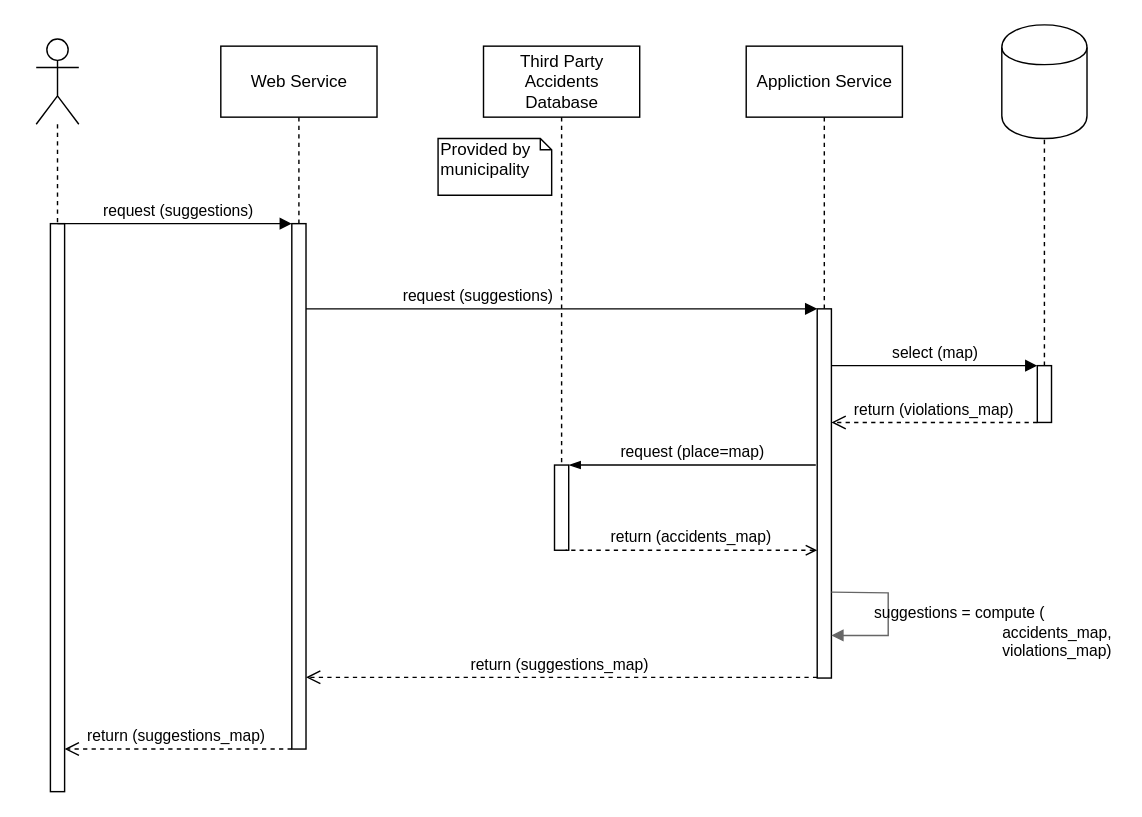
The diagram is 1142 pixels wide and 817 high, and some of its shapes have lost their labels. Each missing label, with the box of its shape:
Authority: (35, 38, 79, 124)
Databse Service: (1000, 23, 1087, 138)
